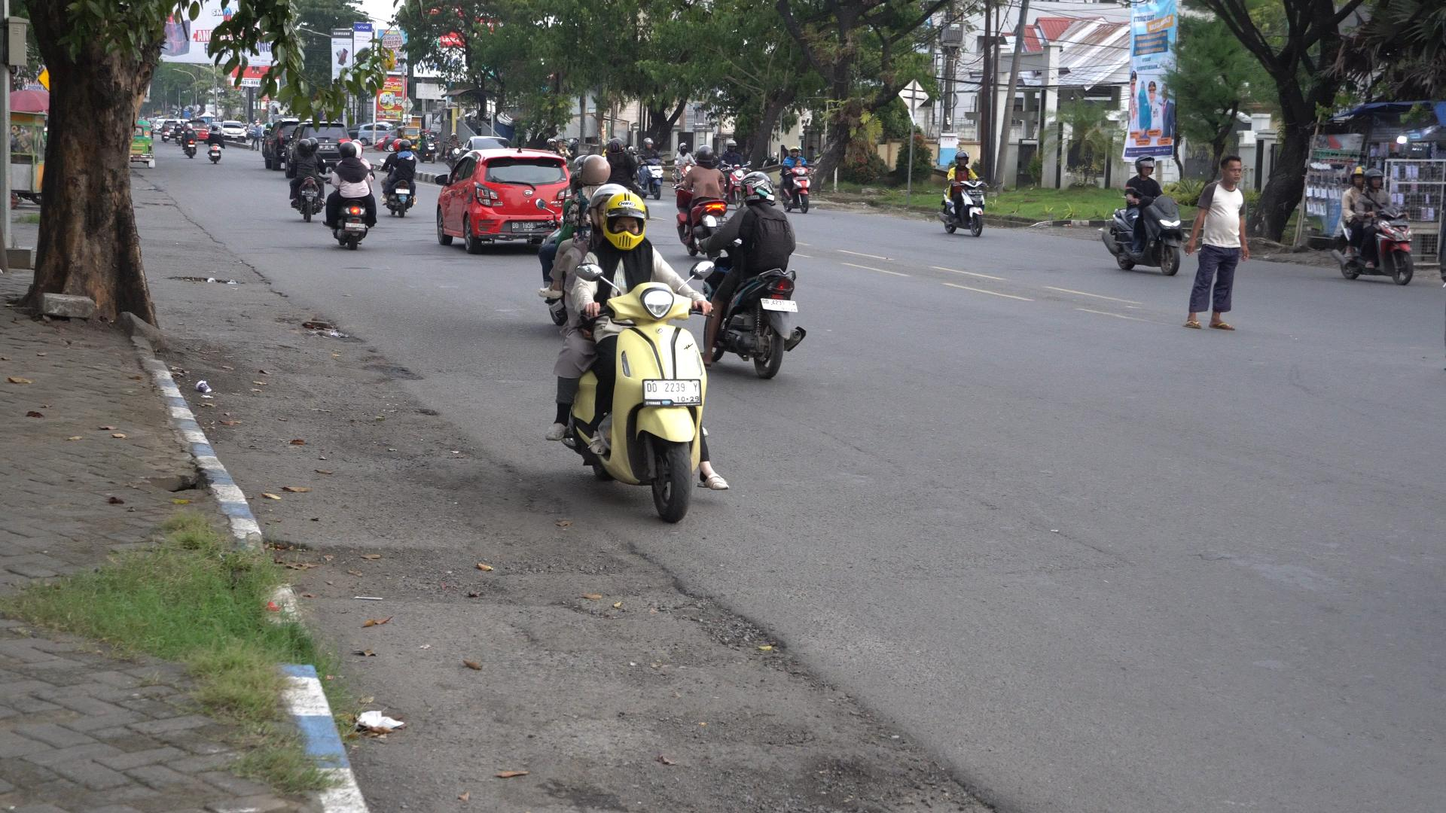number-plate: (640, 374, 706, 403)
